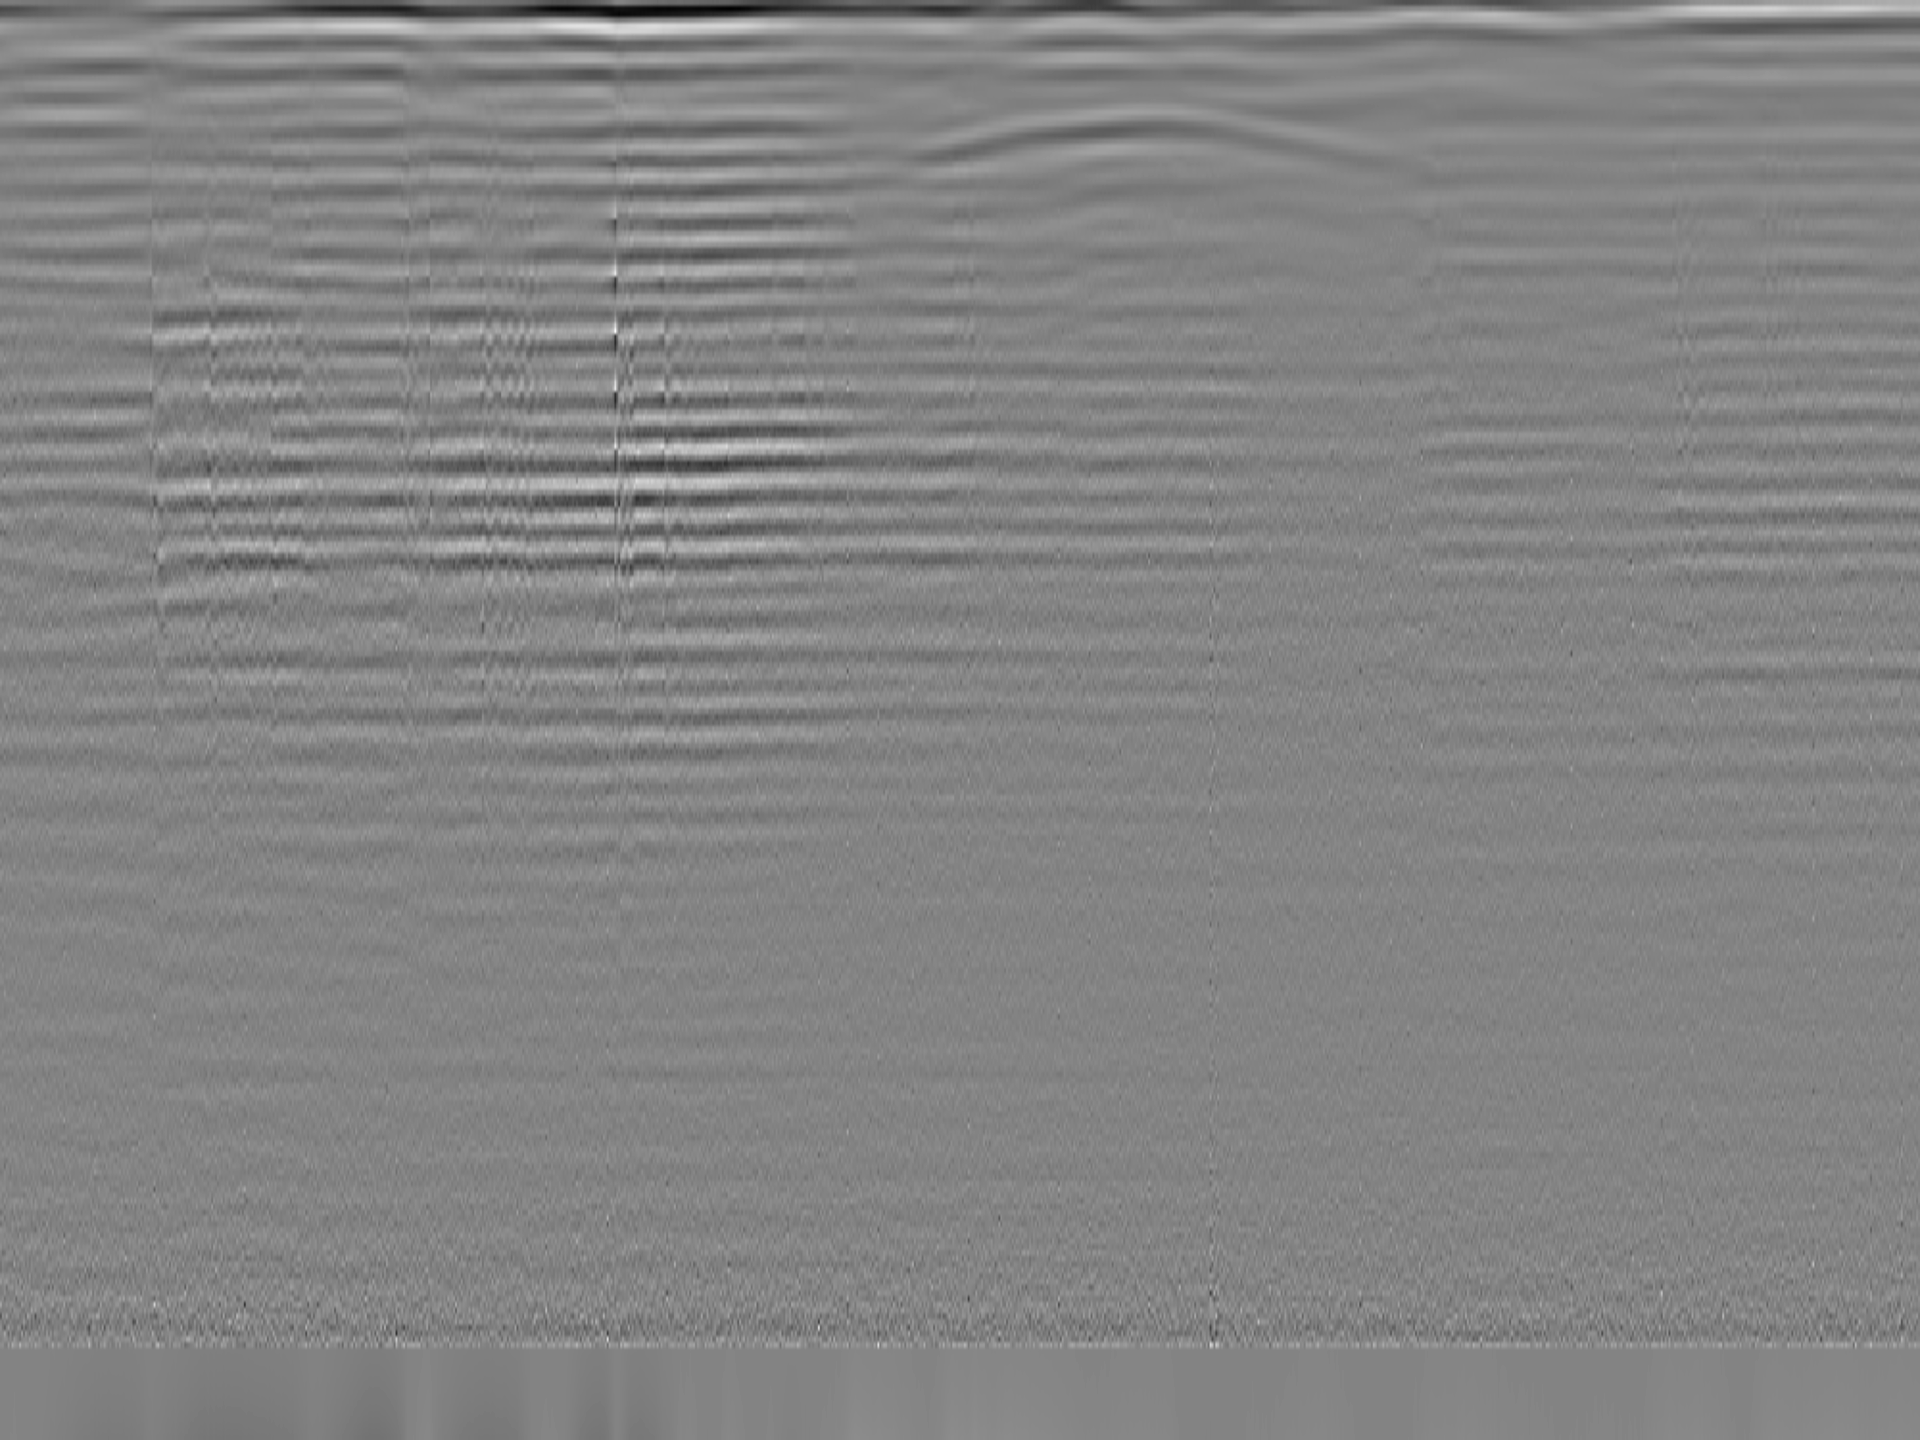Tunnel: (862, 101, 1442, 175)
